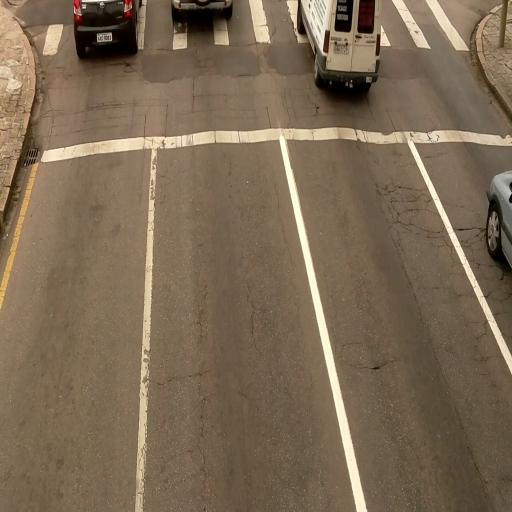car: (297, 0, 380, 90), (71, 0, 138, 58), (485, 170, 512, 278), (170, 0, 234, 22)
